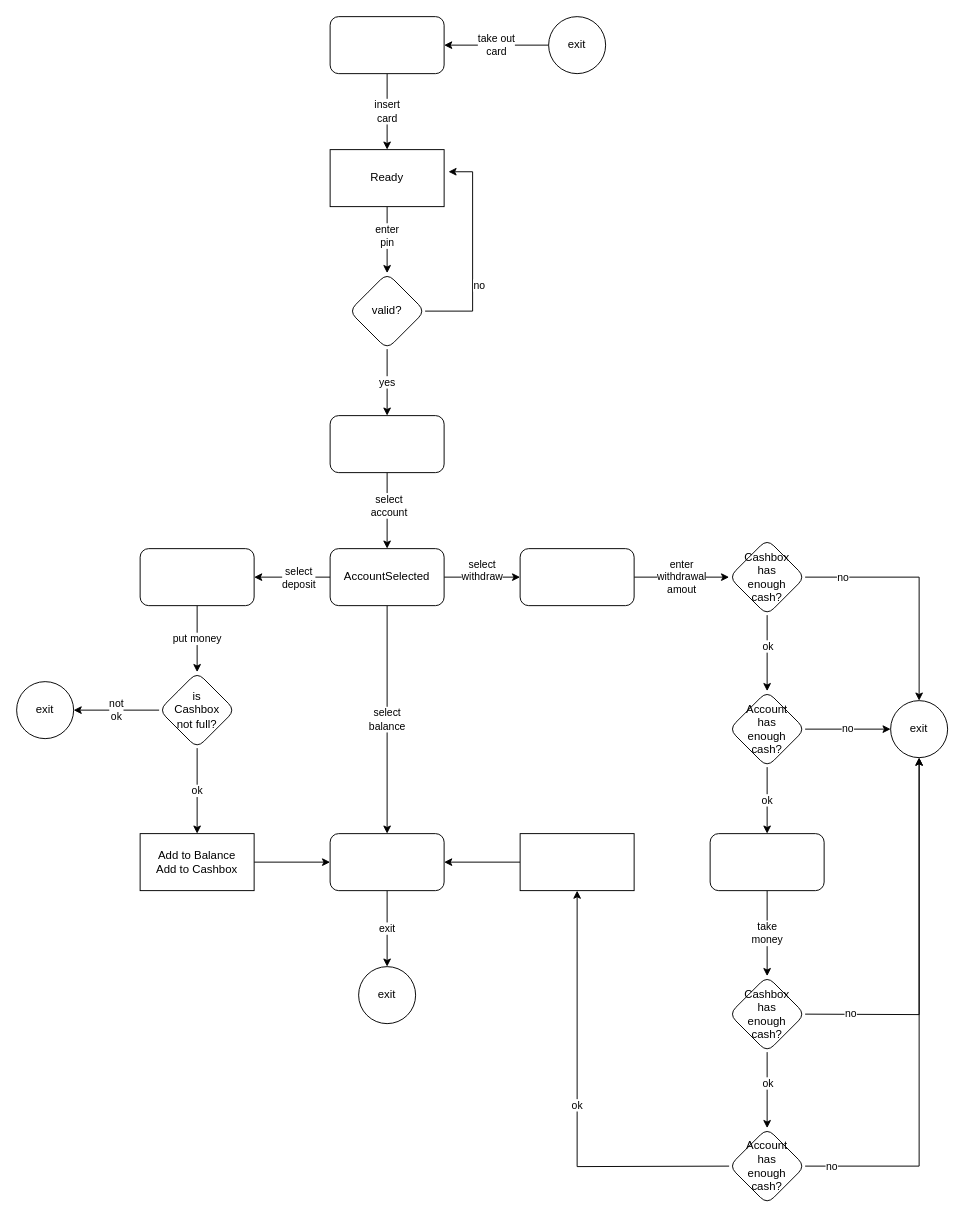
The diagram is 964 pixels wide and 1221 high, and some of its shapes have lost their labels. Each missing label, with the centre of its shape:
Authorized - show account list: (386,444)
Deduct Balance Deduct Cashbox: (576,862)
Displaying Balance: (386,862)
Pre-Processing Withdrawal: (576,577)
Processing Deposit: (196,577)
Processing Withdrawal: (766,862)
Wait: (386,45)
